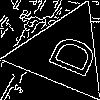D: (38, 28, 99, 80)
